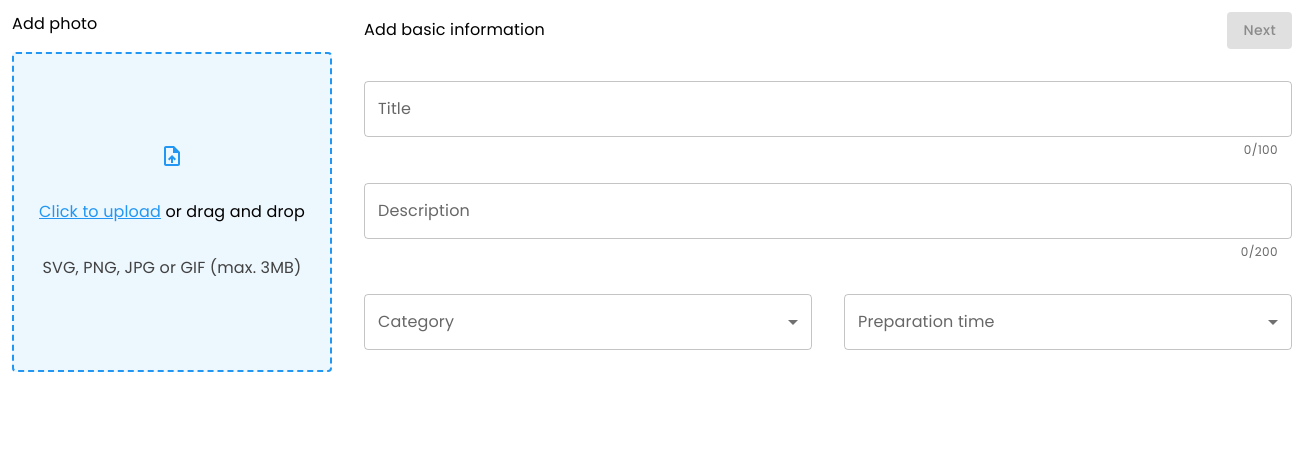
Test case: BasicInformation Component › should enable the Next button if all required fields are filled
Type "Test Title" into the field labelled "Title" at (828, 108), box [364, 80, 1292, 136]
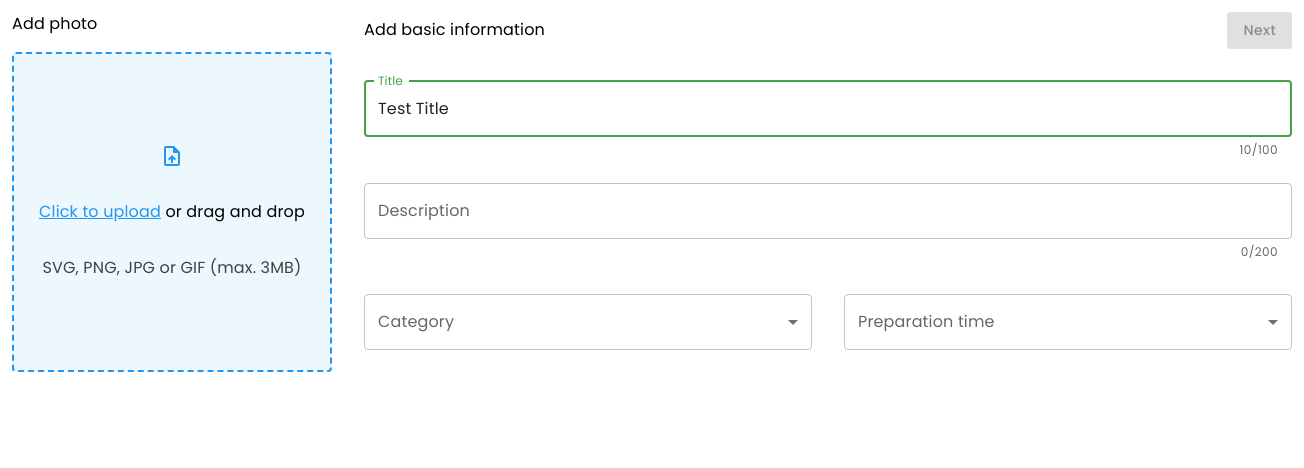
Type "Test Description" into the field labelled "Description" at (828, 211), box [364, 183, 1292, 239]
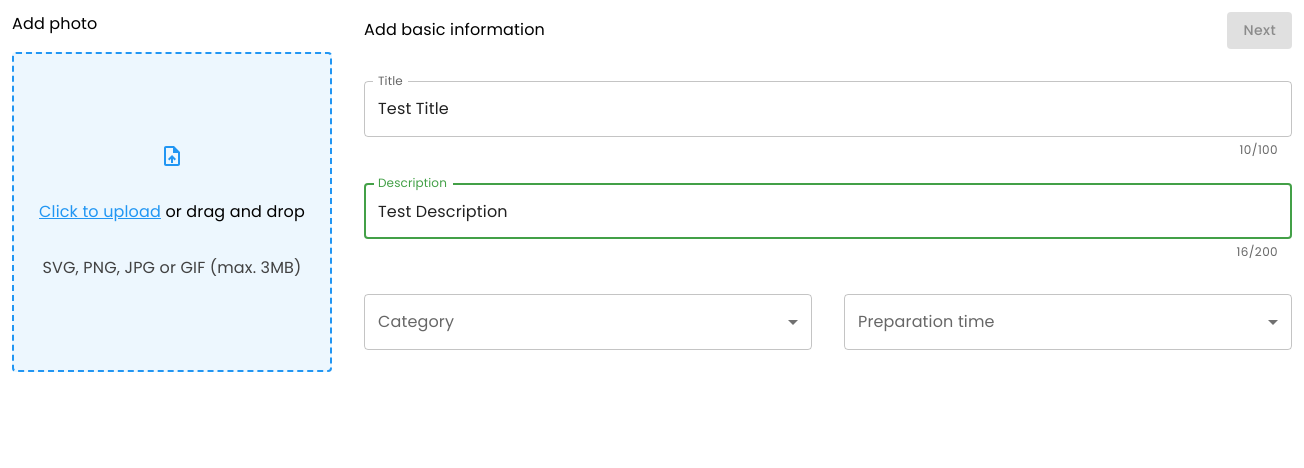
Click the dropdown next to "Category" at (588, 322), box [364, 294, 812, 350]
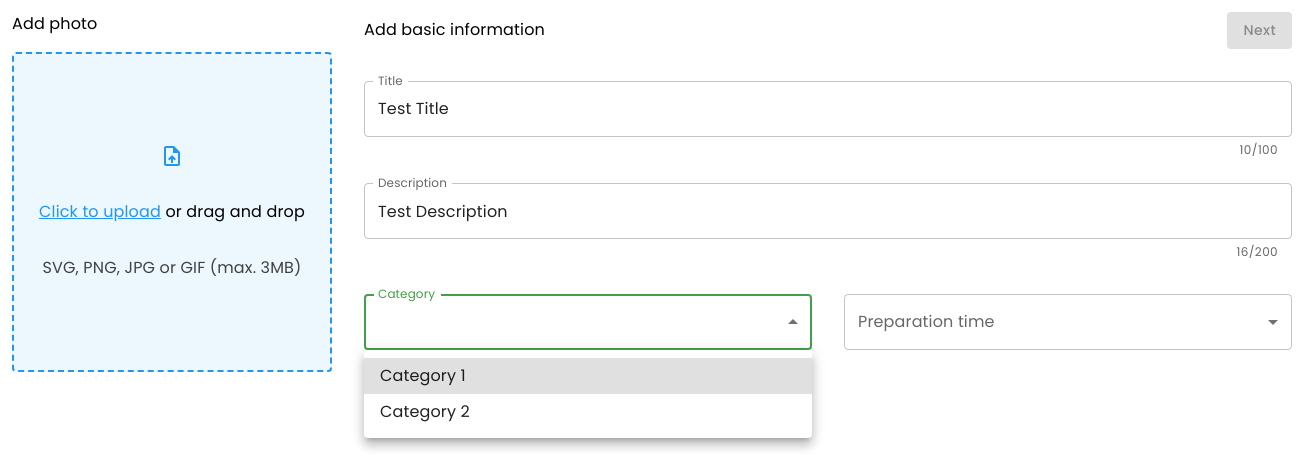
Click the option "Category 1" at (423, 376), box [364, 358, 812, 394]
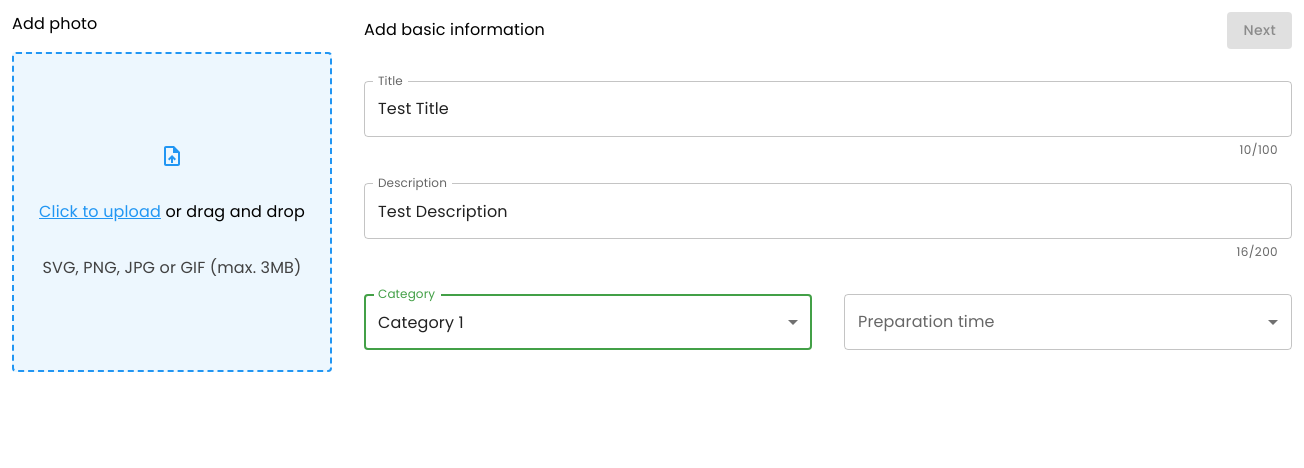
Click the 2nd dropdown at (1068, 322), box [844, 294, 1292, 350]
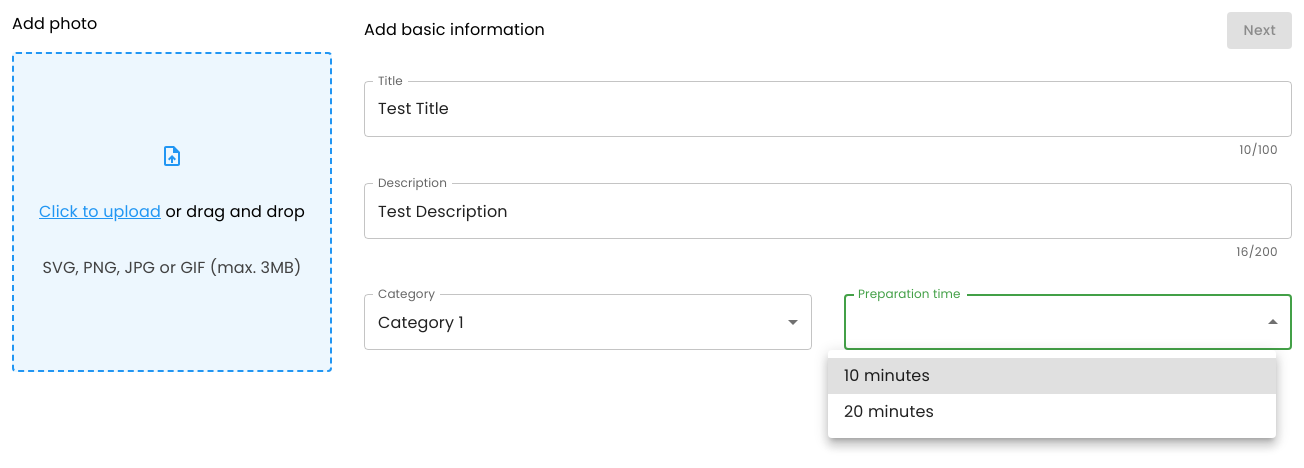
Select "10 minutes" in the 1st option "10 minutes" at (1052, 376), box [828, 358, 1276, 394]
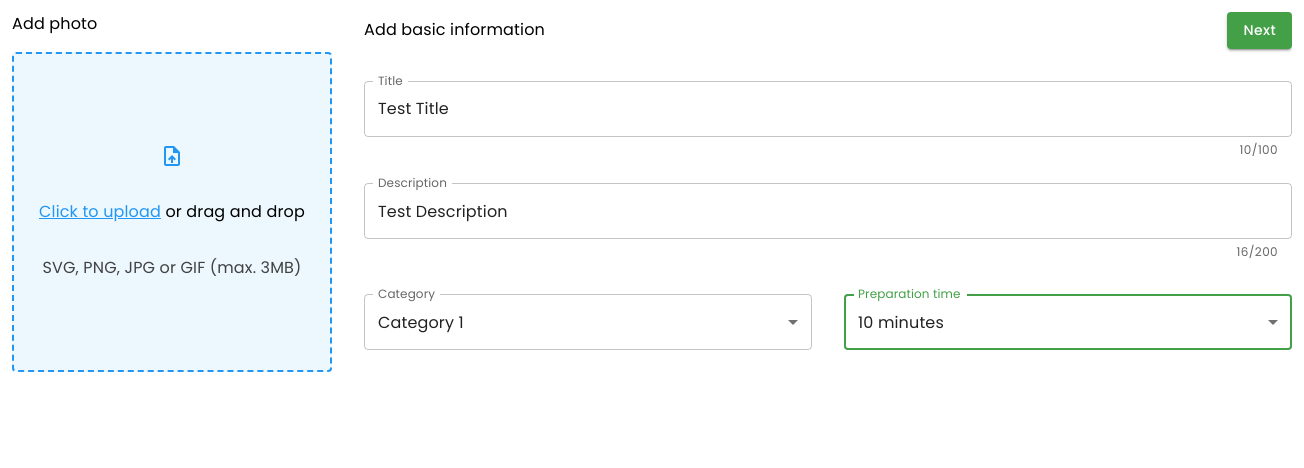
expect the button "Next" is enabled: met, box [1228, 12, 1292, 48]
